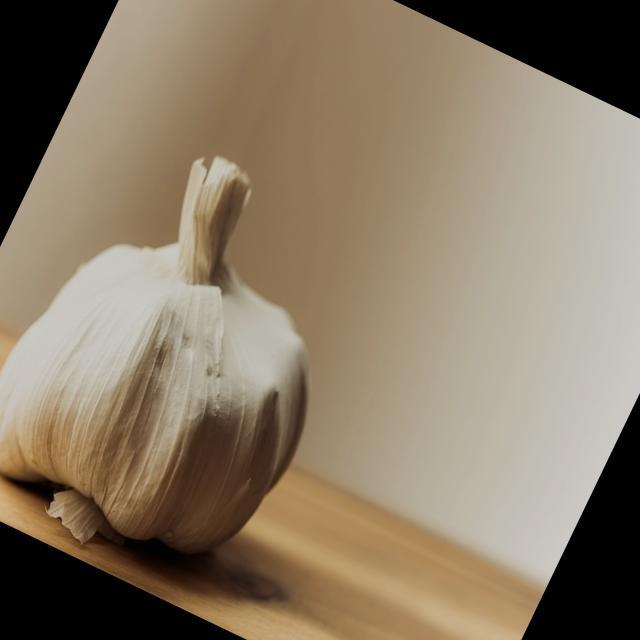garlic: (0, 158, 306, 552)
